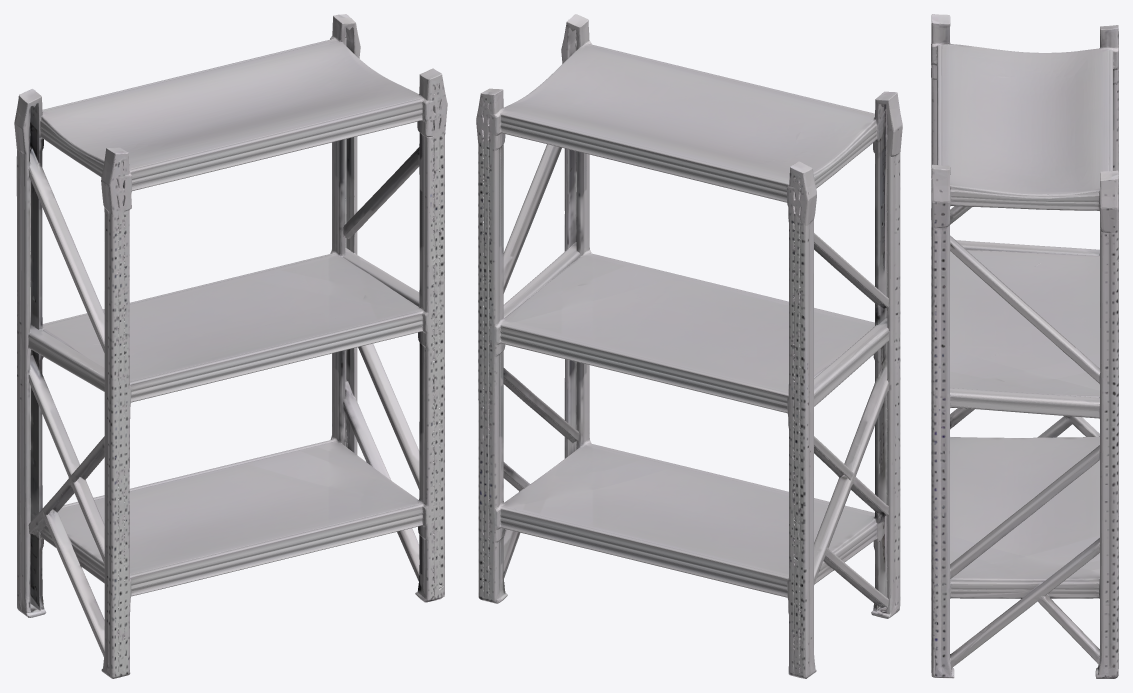
3 renders of one model, left to right at view 1: azimuth 30°, elevation 25°; view 2: azimuth 150°, elevation 25°; view 3: azimuth 270°, elevation 25°, orthographic. The views are drawn at different scales.
Parts seen in each view (by area): view 1: node_0; view 2: node_0; view 3: node_0.
Part boxes in pixels (<box>): node_0: <box>14,14,447,678</box>; node_0: <box>476,14,902,678</box>; node_0: <box>931,14,1118,678</box>.
Bounding box in the file's own units: 0.6522 × 0.9699 × 0.3239.
Materials: 1 (1 with a texture image).
